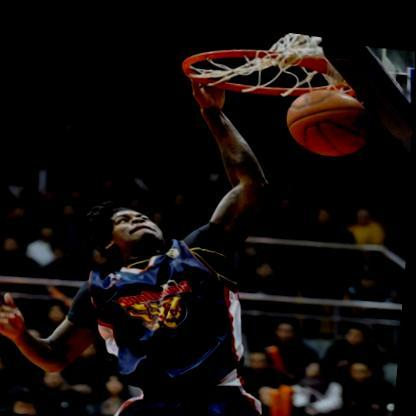basketball: (284, 78, 375, 154)
